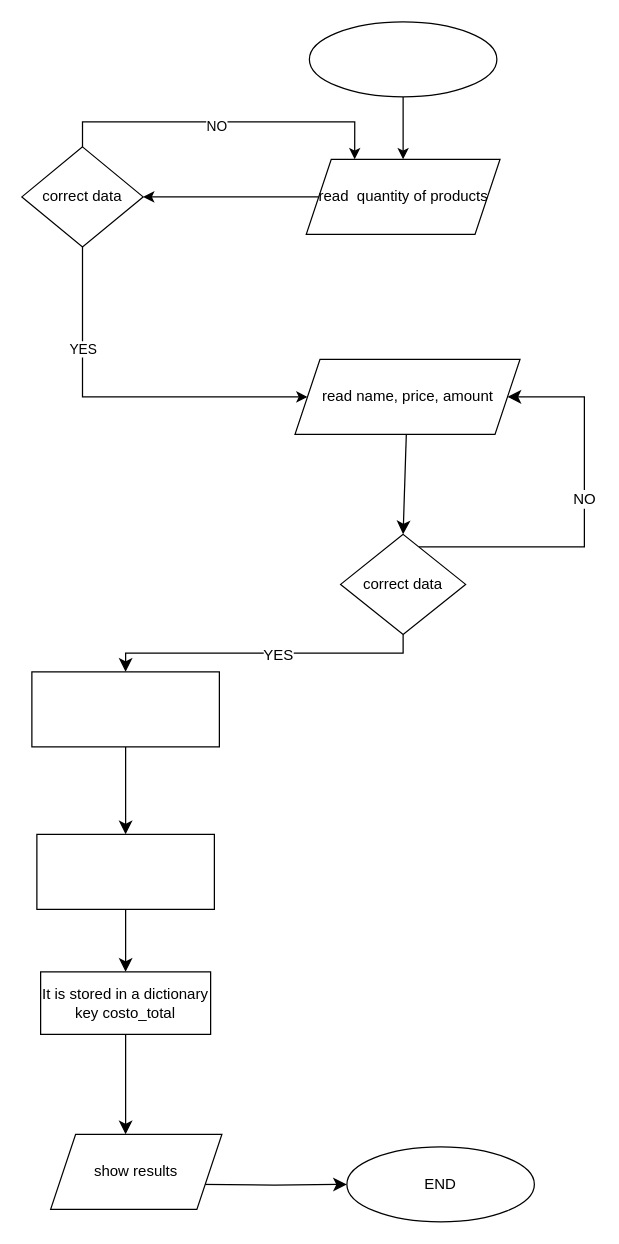
Image size: 619x1244. Some labels were removed from this diagram. Each missing label, with the box of its shape:
add product in dictionary: (31, 671, 219, 747)
INIT: (308, 21, 497, 97)
price x amount: (36, 833, 214, 909)
